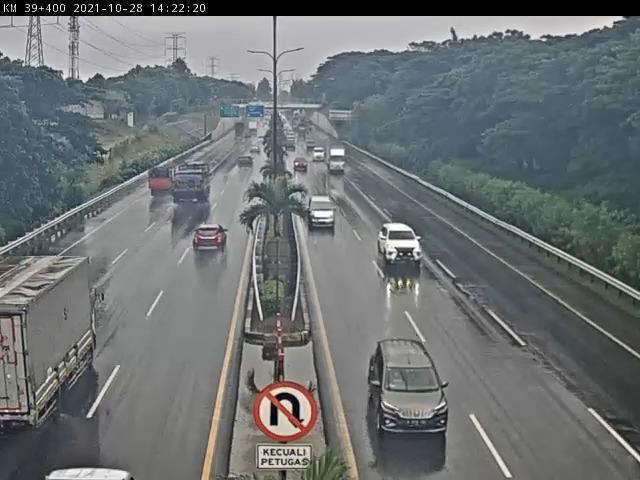car: (367, 339, 452, 436), (379, 221, 428, 271), (195, 224, 232, 255), (309, 196, 338, 232)
truck: (1, 251, 101, 431), (170, 164, 214, 206), (147, 168, 179, 199)
